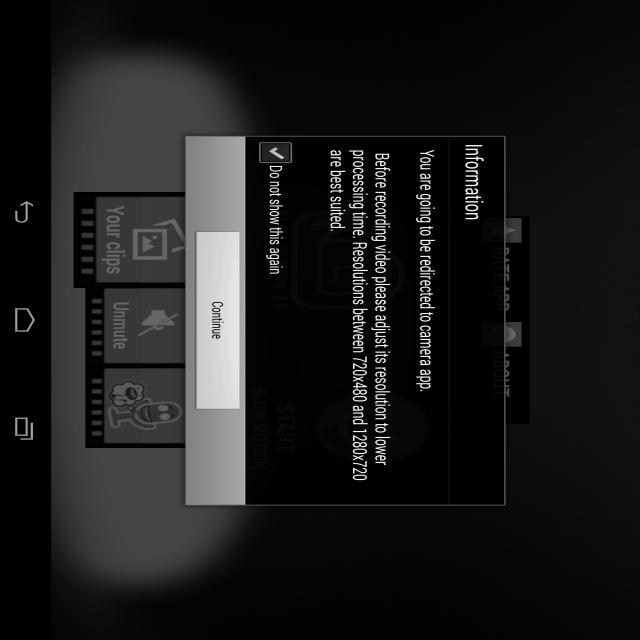Button: (190, 229, 245, 412)
CheckBox: (256, 141, 297, 165)
ImageView: (74, 192, 180, 446)
TextView: (324, 147, 396, 486), (414, 148, 438, 393), (459, 142, 486, 222), (265, 175, 284, 279)
